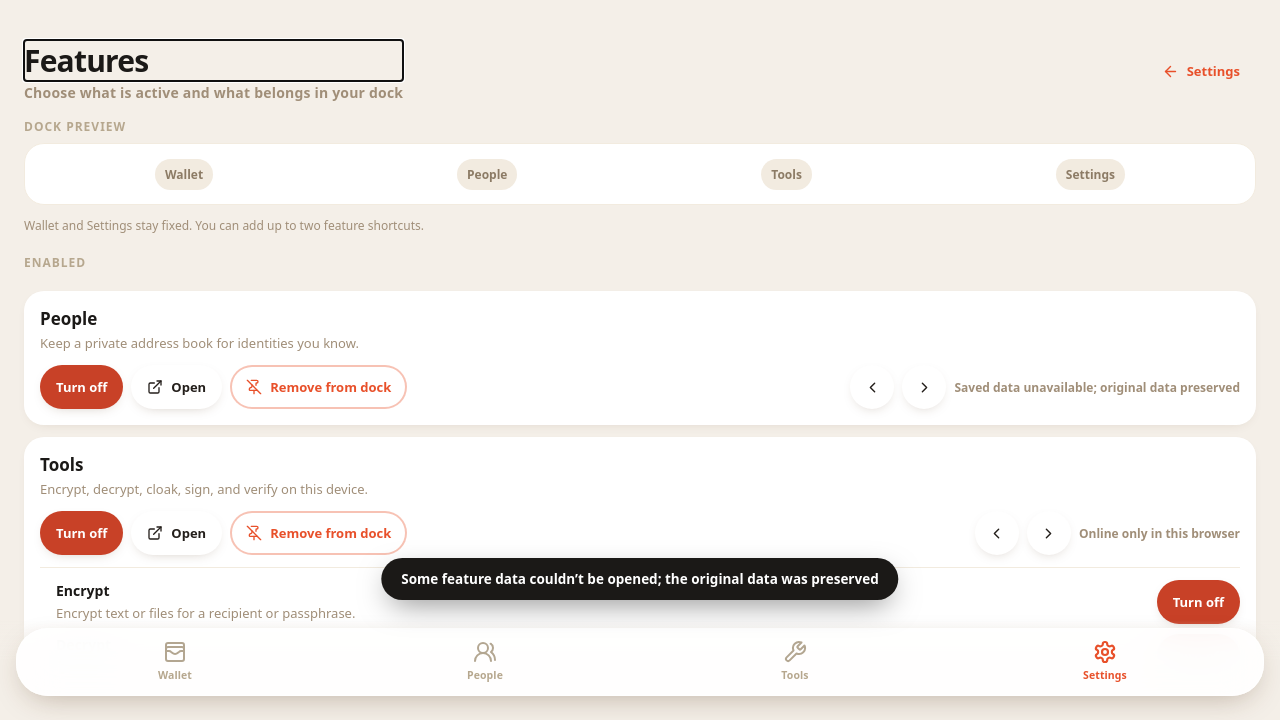
Test: honest client-only wallet › isolates unavailable People data without overwriting its stored bytes
Expected: the element showing "Dock preview Wallet People Tools Settings" is shown, [24,118,1256,205]
Expected: the 1st button "Remove from dock" is shown, [230,365,407,409]
Click the 1st button "Turn off" at coordinates (82, 387), box [40,365,123,409]
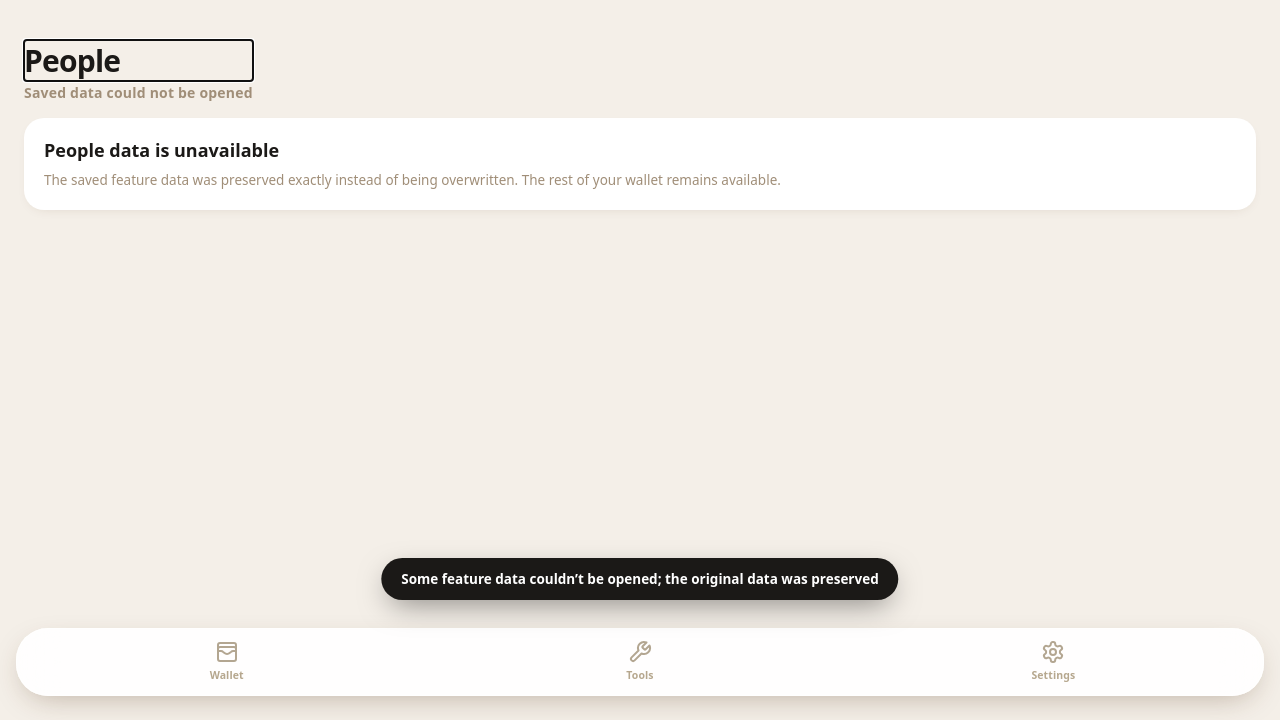
Now the heading "People data is unavailable" is shown, box [44,138,279,162]
